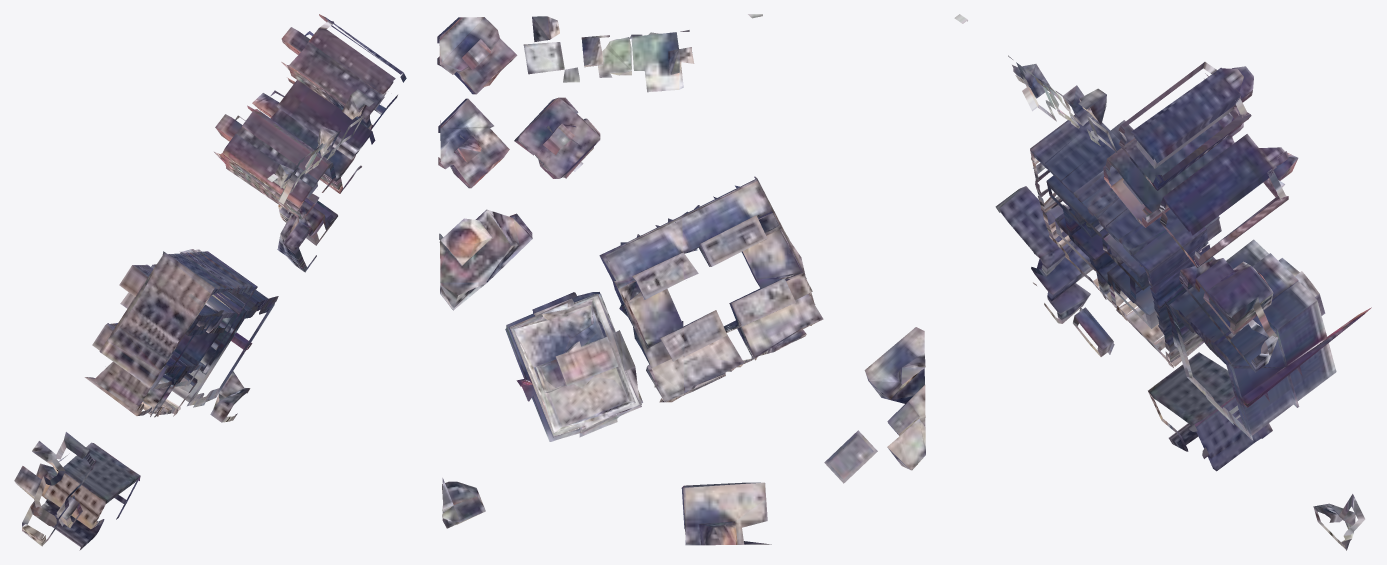
3 views of the same model, side by side, from view 1: azimuth 30°, elevation 25°; view 2: azimuth 150°, elevation 25°; view 3: azimuth 270°, elevation 25° (orthographic). The views are drawn at different scales.
Size of the model in its own units: 149 by 152 by 109.
Materials: 1 (1 with a texture image).
